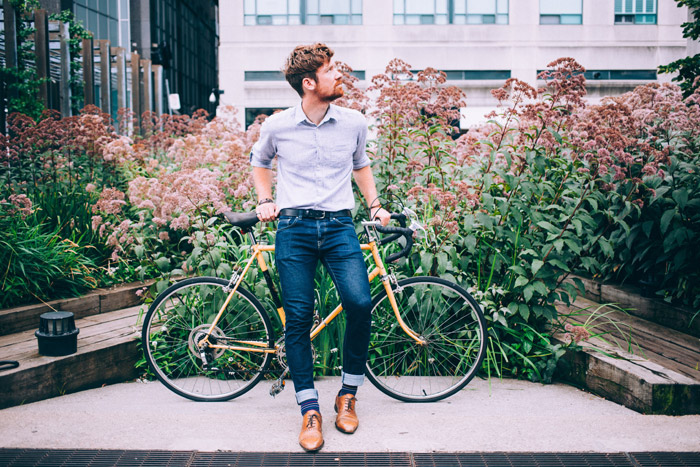male: (248, 42, 393, 454)
